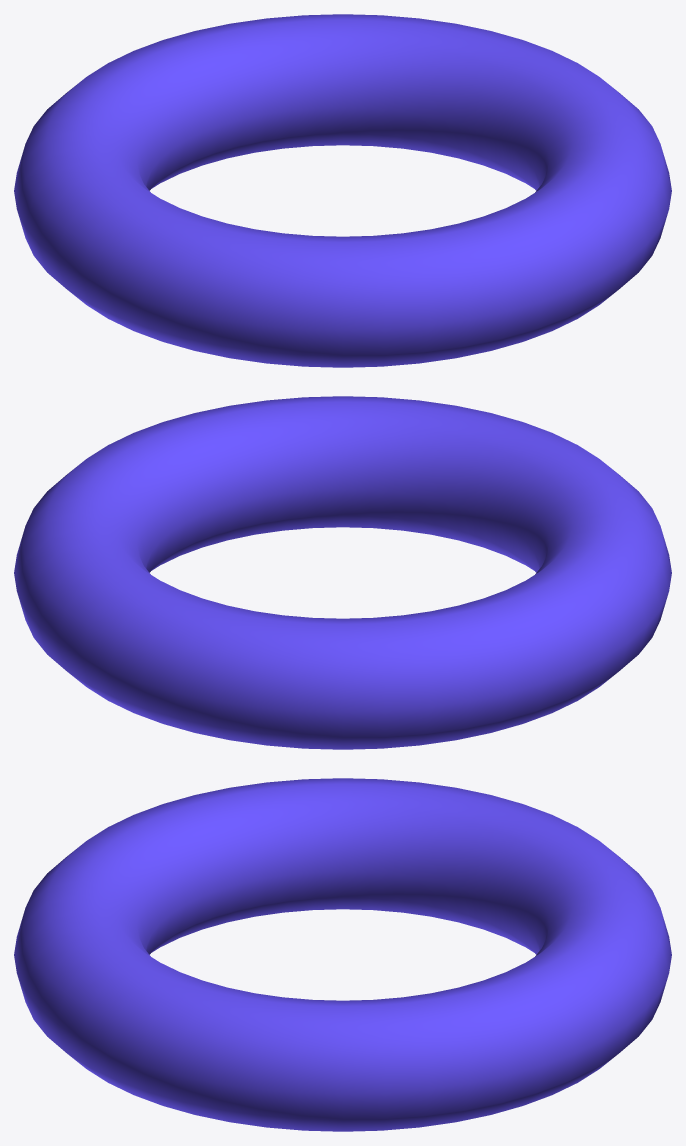
3 views of the same model, one above another, from view 1: azimuth 30°, elevation 25°; view 2: azimuth 150°, elevation 25°; view 3: azimuth 270°, elevation 25° (orthographic).
Parts seen in each view (by area): view 1: Torus; view 2: Torus; view 3: Torus.
Boxes of the visible parts, x1,y1,x2,y2 form: Torus: [14, 14, 671, 367]; Torus: [14, 396, 671, 749]; Torus: [14, 778, 671, 1131].
Size of the model in its own units: 2.5 by 0.5 by 2.5.
